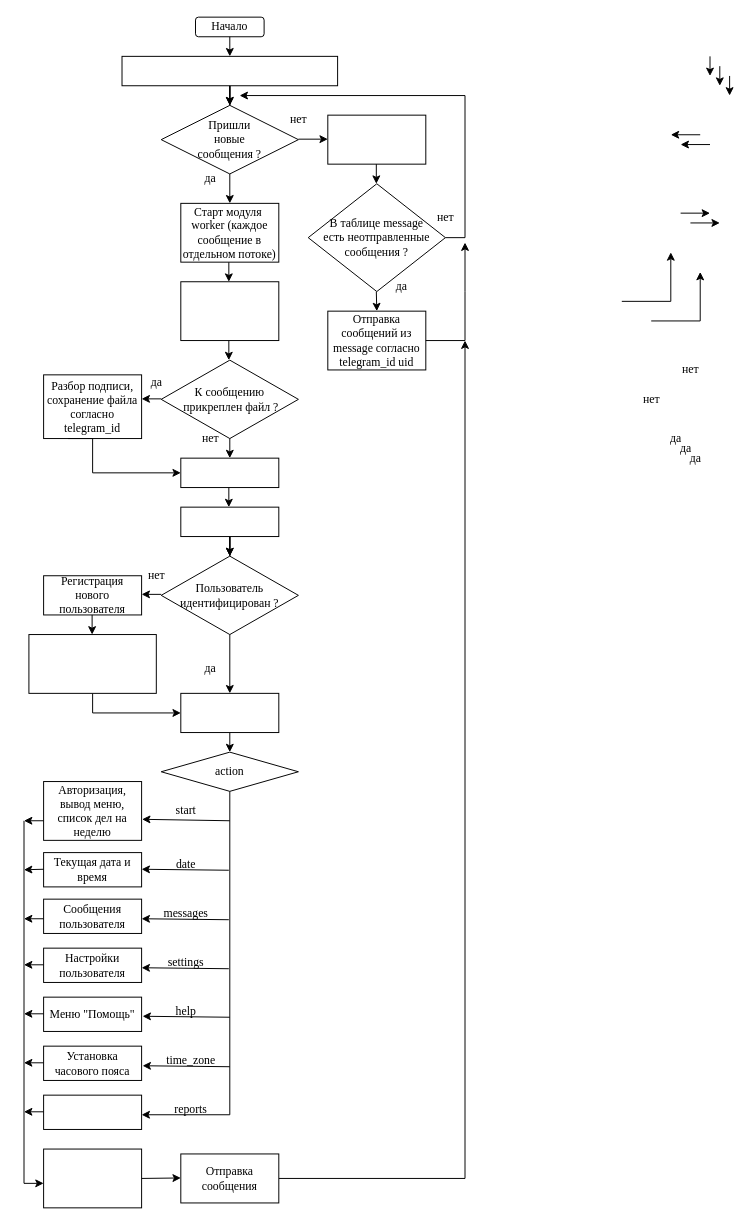
Image size: 755x1225. Some labels were removed from this diagram. The centre of each missing label's shape, as x and y in pixels:
Загрузка конфигурационной информации, запуск telegram-бота: point (229, 70)
Идентификация пользователя в БД: point (229, 472)
Модификация управляющей структуры Tokens: point (92, 1178)
Модуль сбора отчётов: point (92, 1111)
Парсинг сообщения, формирование структуры Tokens: point (229, 311)
Получение action из Tokens: point (229, 712)
Создание шаблонов отчётов, подписок, time_zone, параметров telegram: point (92, 663)
Старт модуля housekeeper: point (376, 139)
Старт модуля route: point (229, 521)
